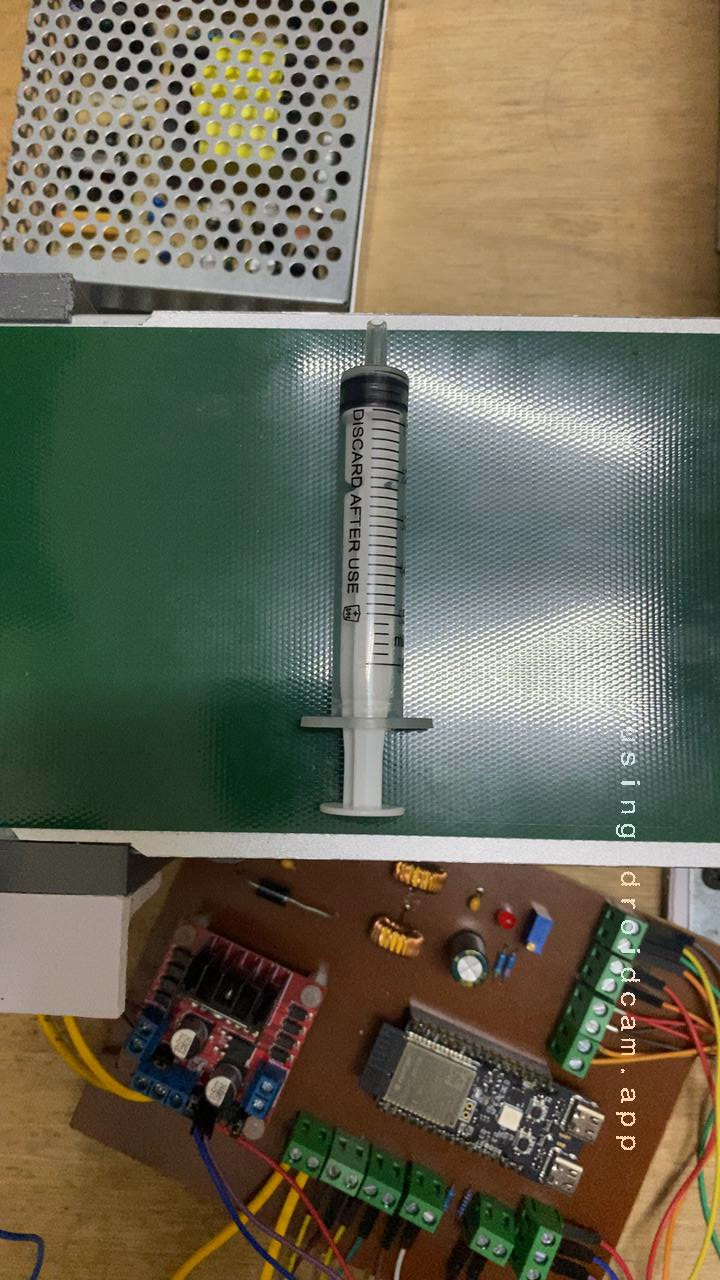syringe: (259, 357, 481, 831)
